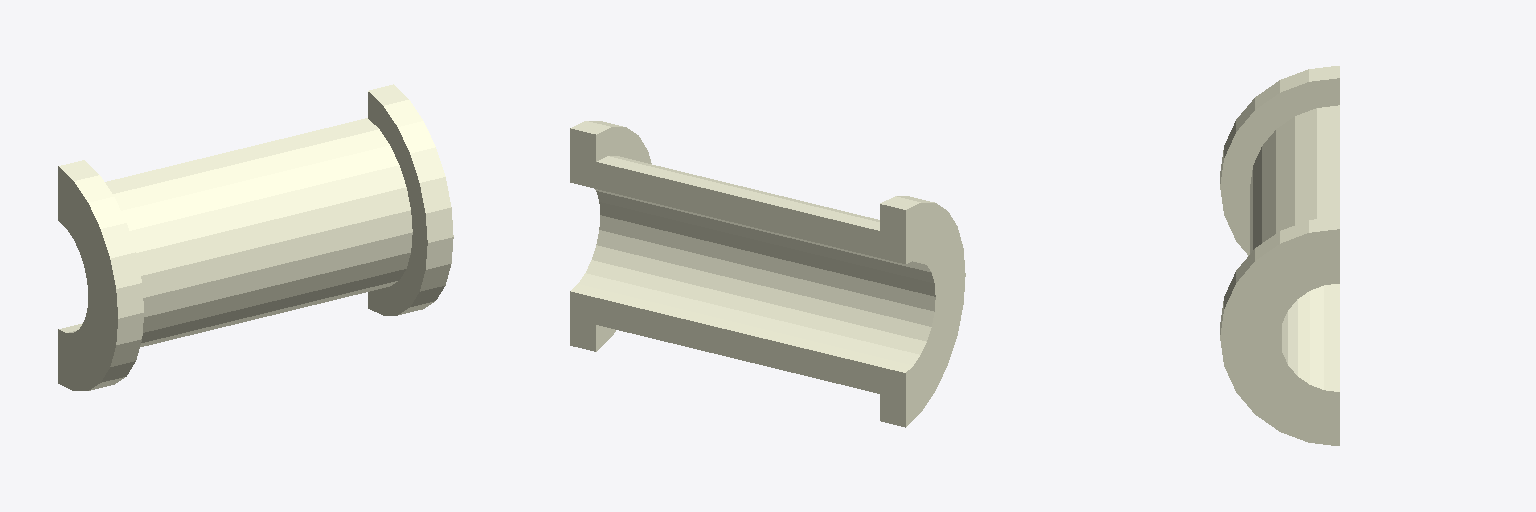
The model's file is section_017.obj.
3 views of the same model, side by side, from view 1: azimuth 30°, elevation 25°; view 2: azimuth 150°, elevation 25°; view 3: azimuth 270°, elevation 25° (orthographic).
Bounding box in the file's own units: 12.92 × 8 × 4.